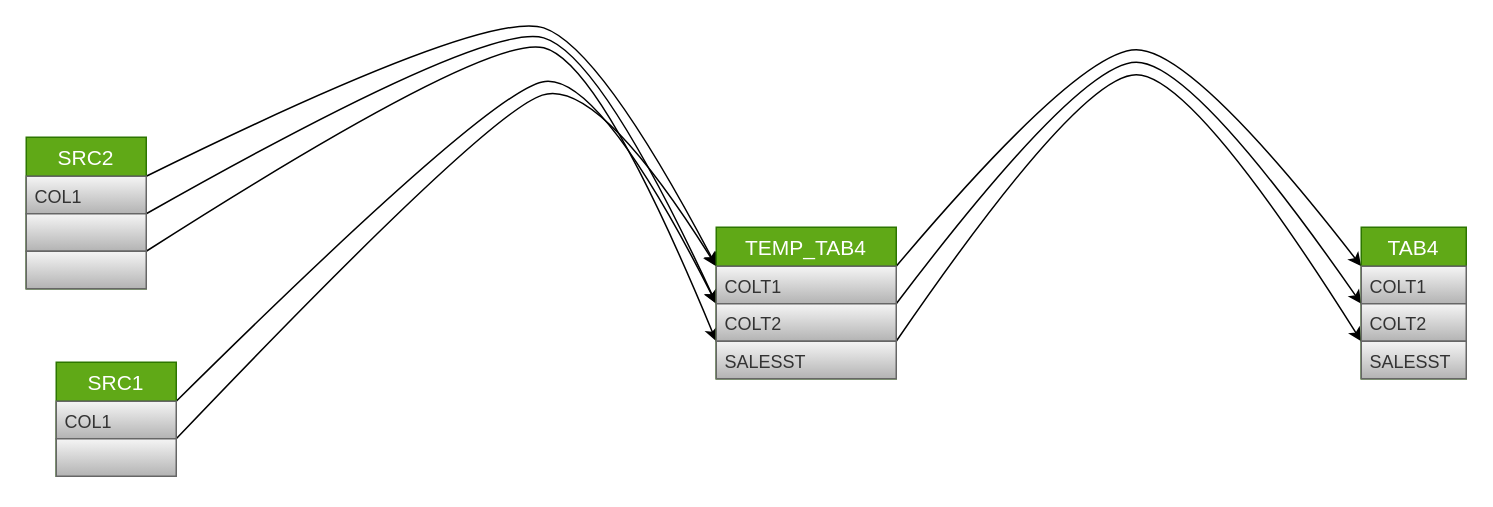
The diagram is 1493 pixels wide and 507 high, and some of its shapes have lost their labels. The centre of each missing label's shape, as x and y in pixels:
COL11: point 115,456
COL2: point 85,231
SALES: point 85,269
